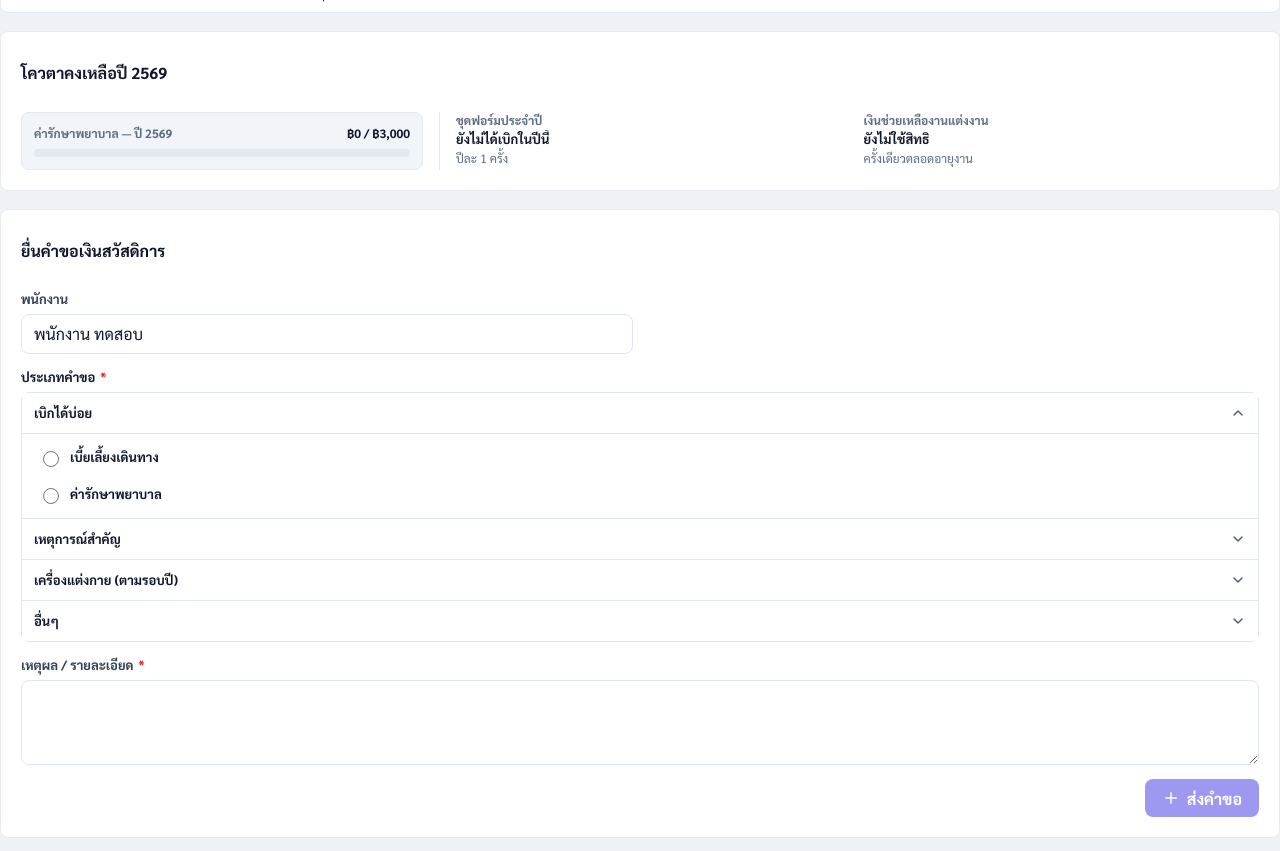
it: SpecialMoneyPanel › rule card › renders the rule card for the selected type, with cap/frequency/evidence rows
The image size is (1280, 851).
Check: the button "เบิกได้บ่อย" is shown, box [22,393,1258,433]
Click the button "เหตุการณ์สำคัญ" at coordinates (77, 538), box [22,519,1258,559]
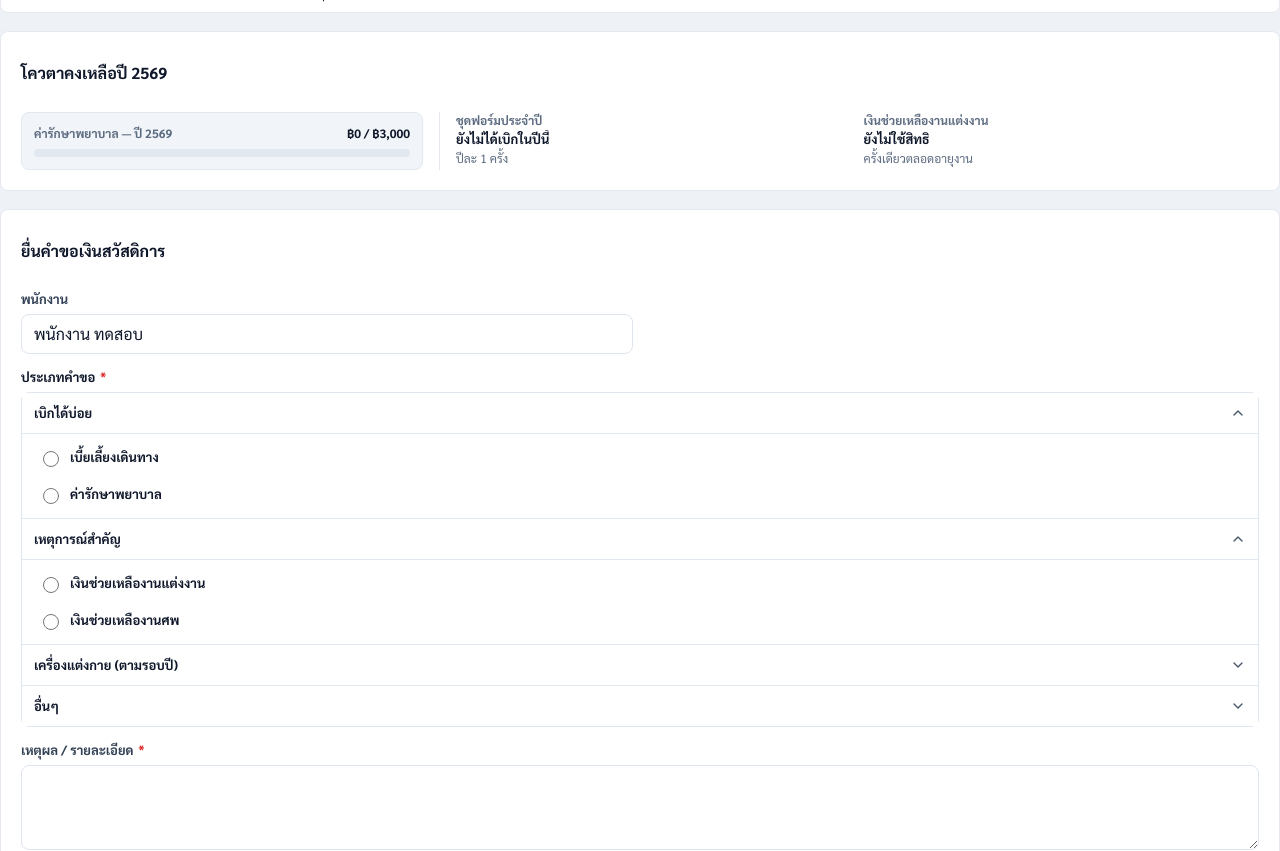
Click the button "เครื่องแต่งกาย (ตามรอบปี)" at coordinates (106, 664), box [22,645,1258,685]
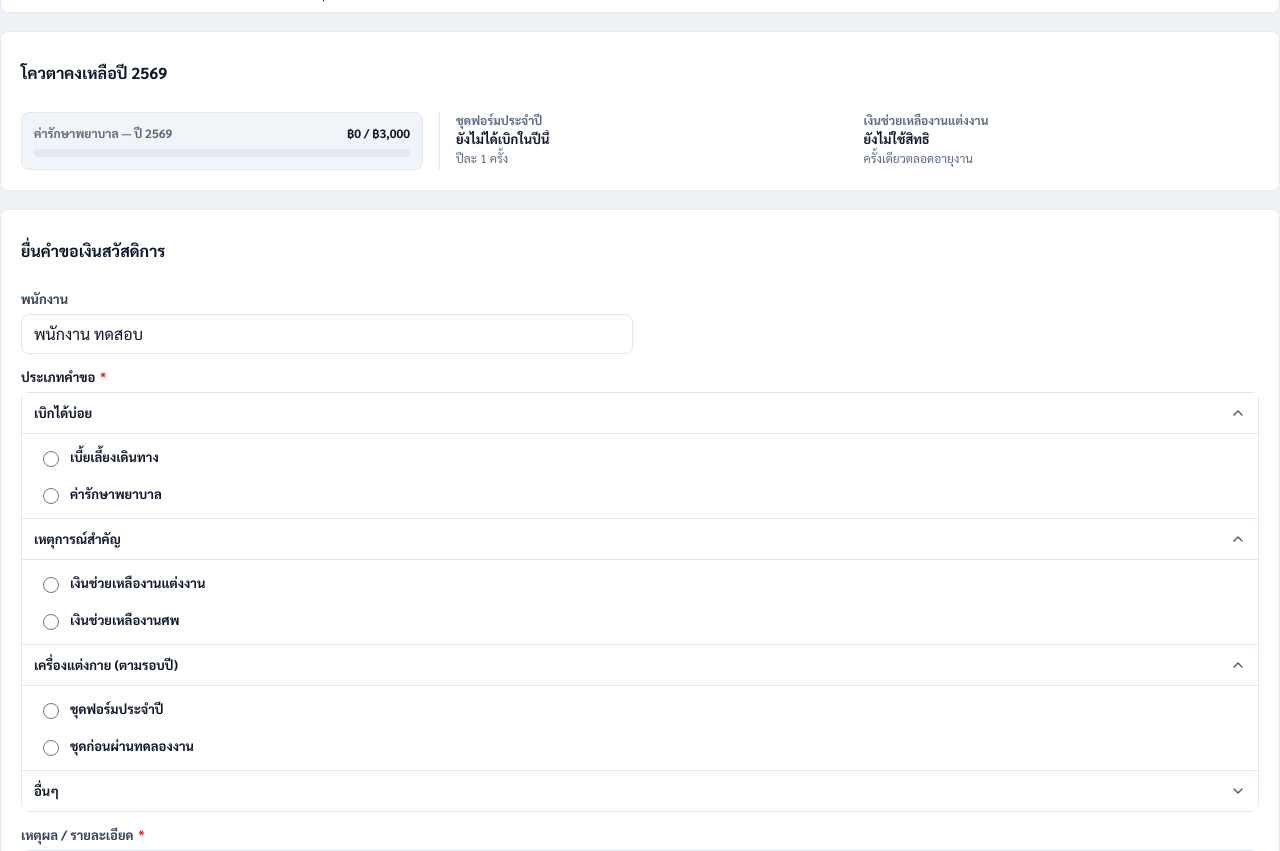
Click the button "อื่นๆ" at coordinates (46, 790), box [22,771,1258,811]
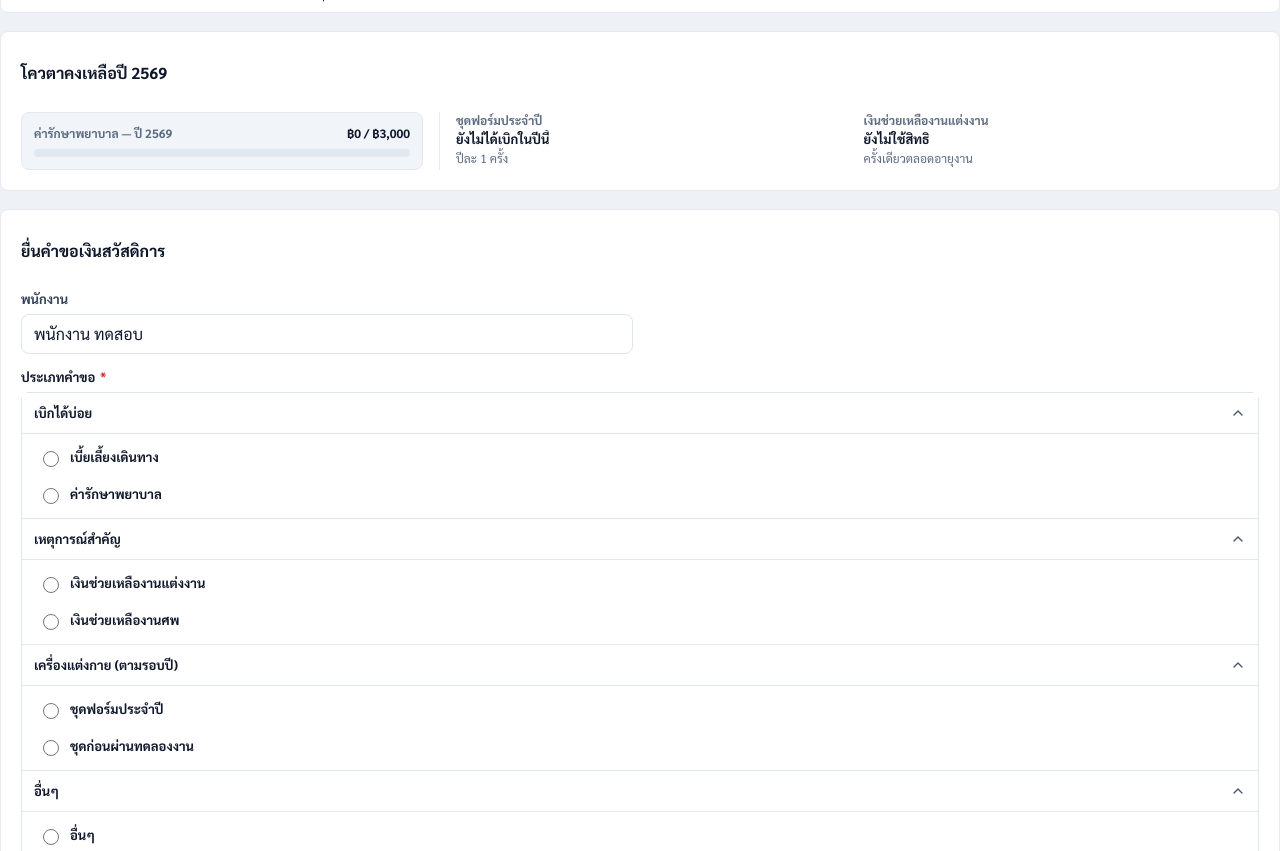
Click the radio button labelled "ค่ารักษาพยาบาล" at coordinates (51, 496), box [43,488,59,504]
(page scrolled)
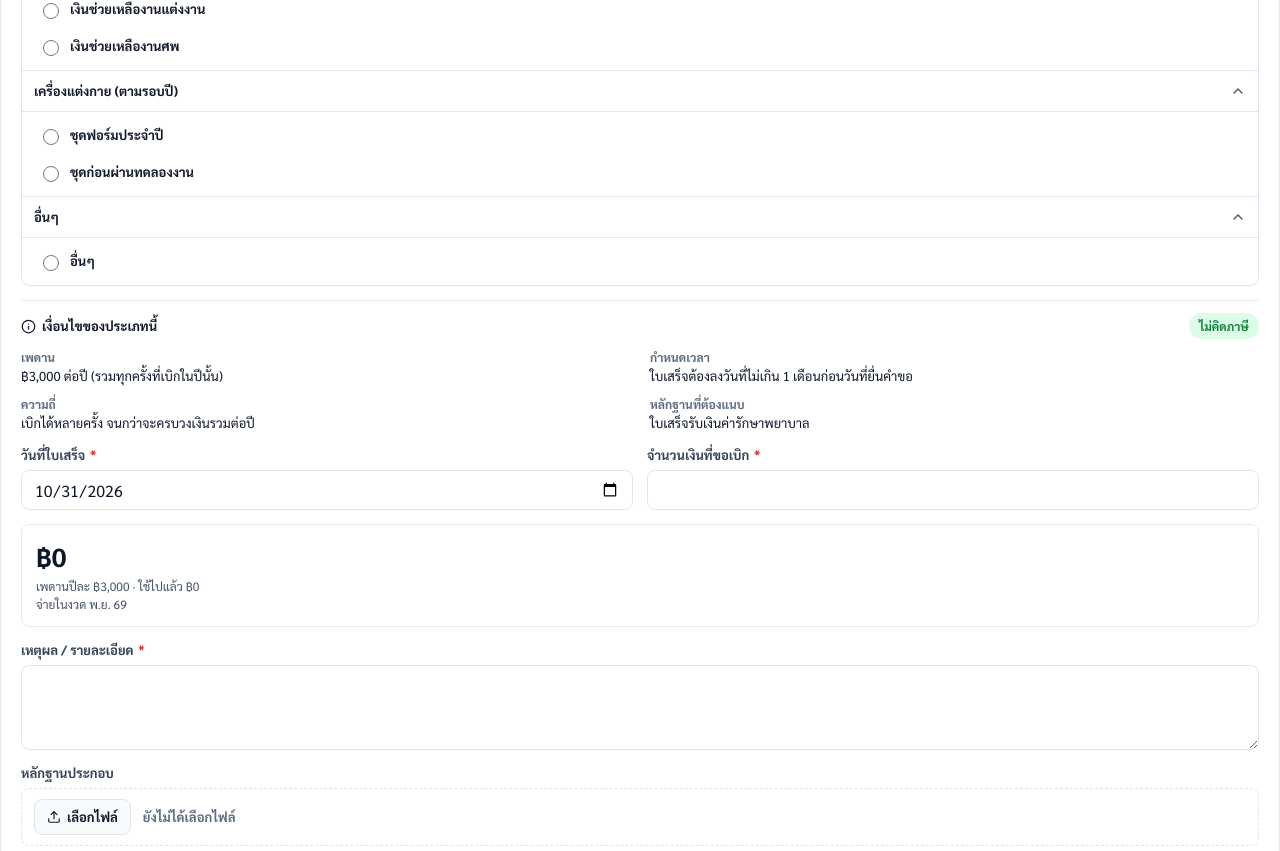
Check: the text "เพดาน" is shown, box [21,349,55,365]
Check: the text "฿3,000 ต่อปี (รวมทุกครั้งที่เบิกในปีนั้น)" is shown, box [21,367,223,384]
Check: the text "ความถี่" is shown, box [21,396,56,412]
